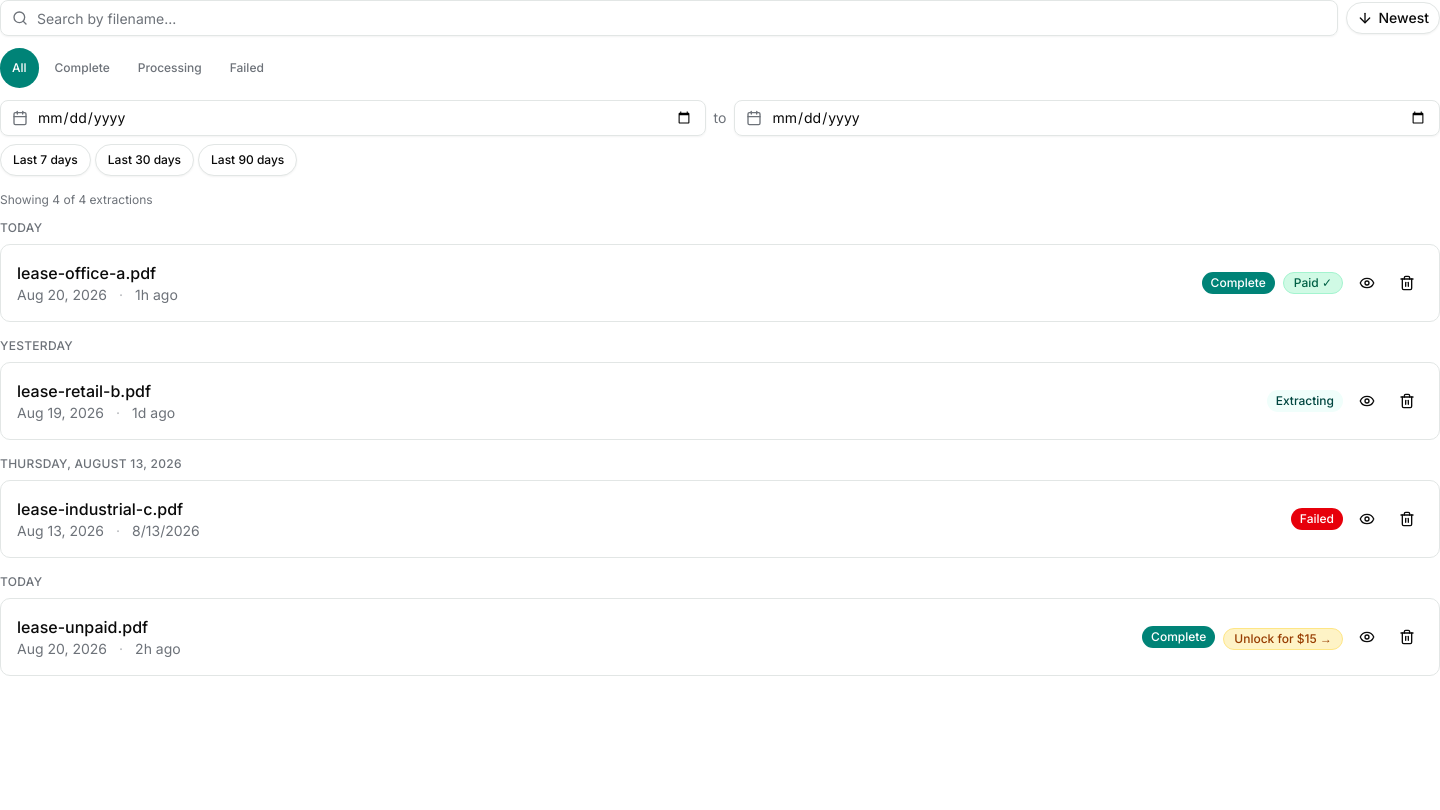
Test: ExtractionList › opens delete confirmation dialog and can cancel
Expected: the text "lease-office-a.pdf" is shown, [17,263,156,283]
Click the button named "delete".
click(1407, 283)  # box [1391,267,1423,299]
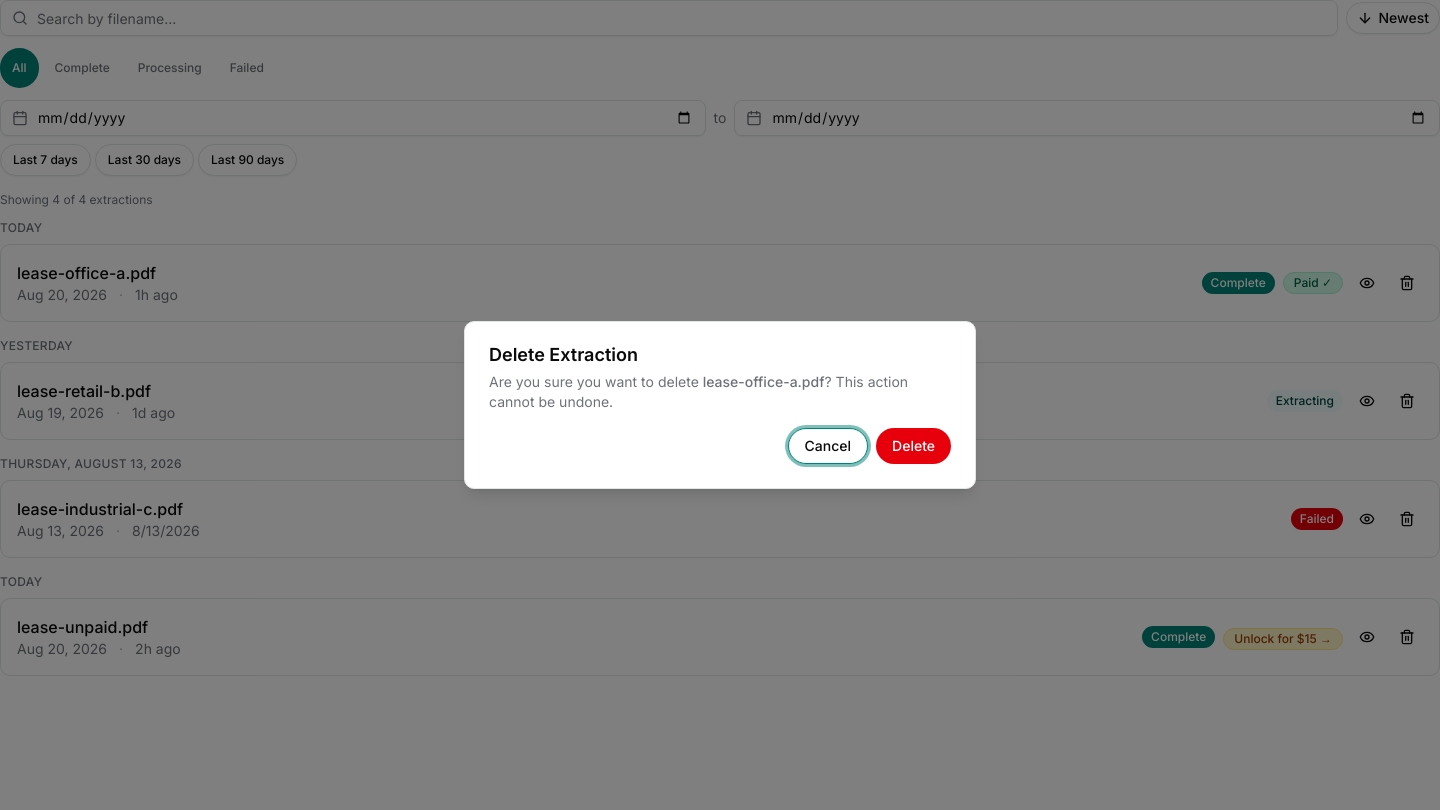
Expected: the heading "Delete Extraction" is shown, [489,344,638,365]
Expected: the text "This action cannot be undone" is shown, [489,373,908,410]
Click the button "Cancel".
click(828, 446)  # box [788,428,868,464]
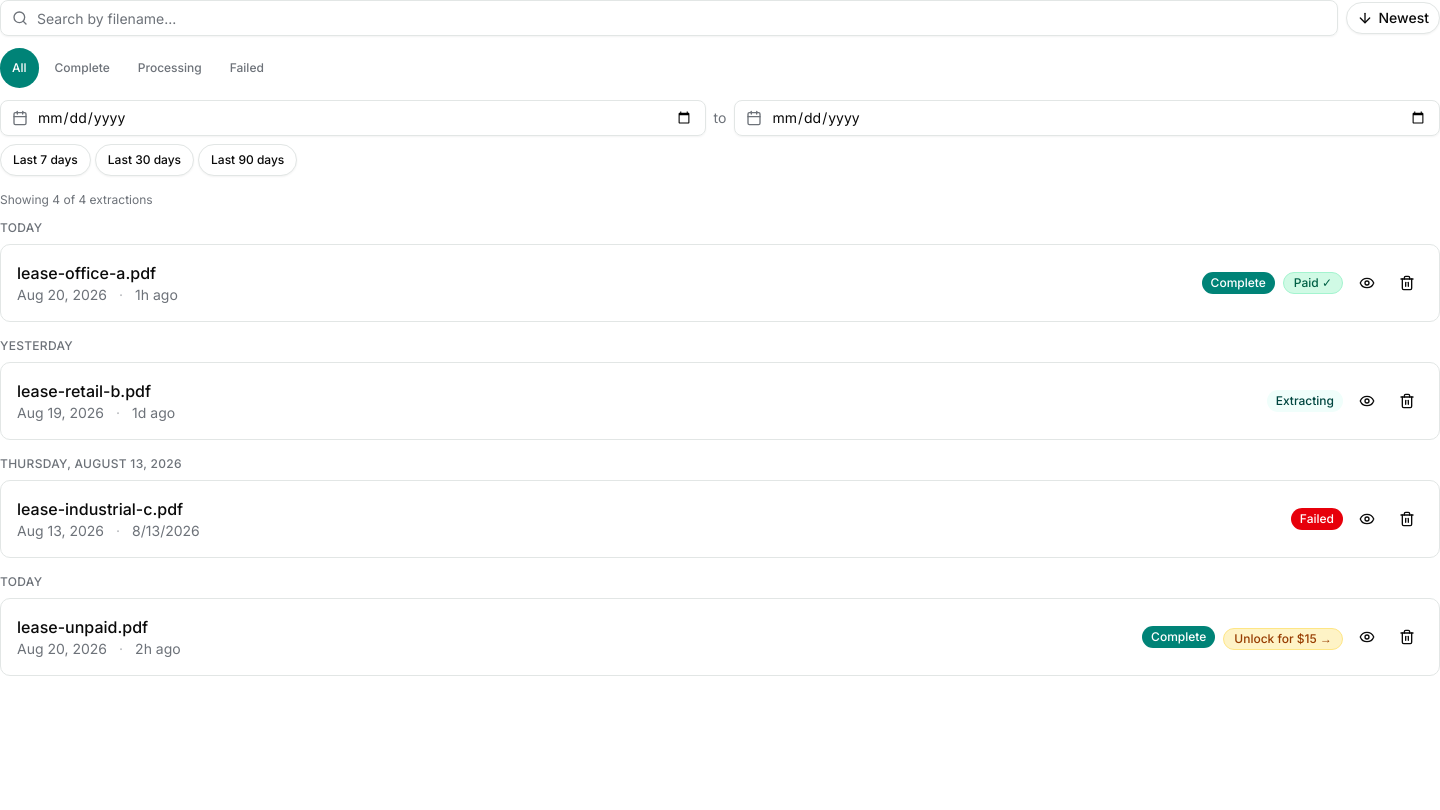
Expected: the heading "Delete Extraction" is gone
